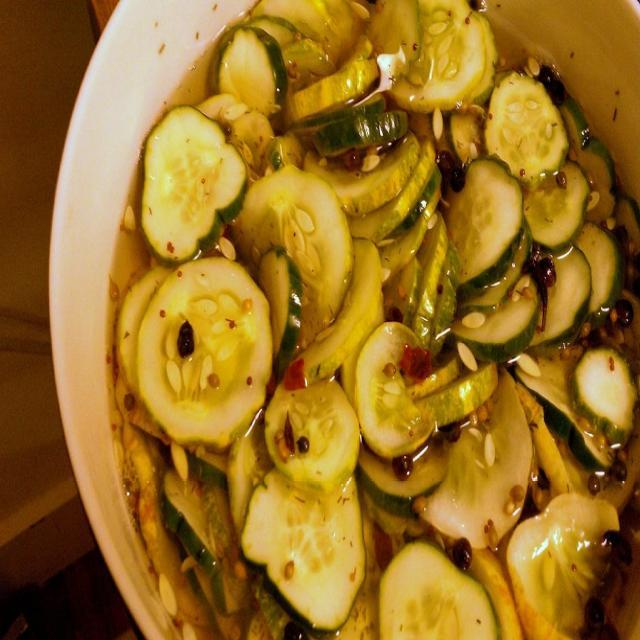Zucchini: (147, 50, 612, 575), (374, 532, 504, 640)
